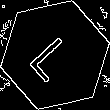L_NE: (27, 26, 83, 84)
